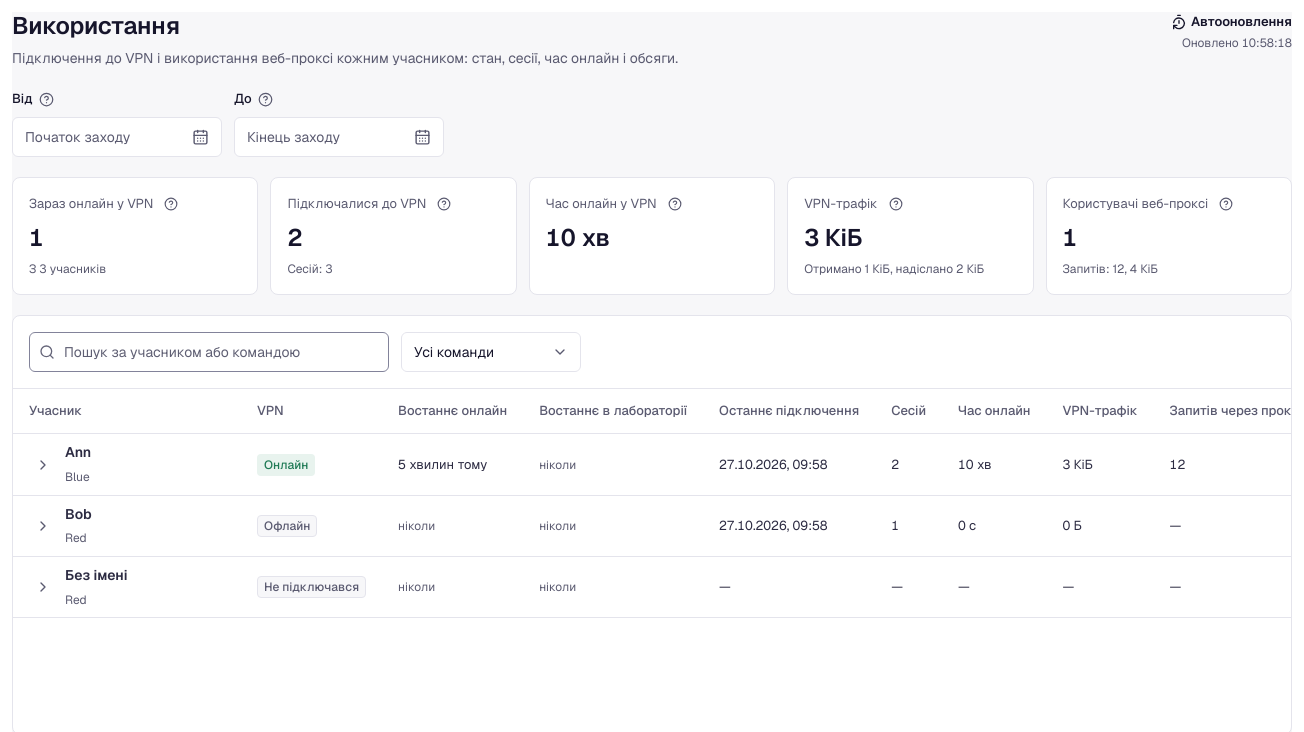
Scenario: Використання › filters by team and says so when nobody matches
Expected: the table is shown, top-left (13, 389), bottom-right (1291, 618)
Type "nobody" into the search field labelled "Пошук за учасником або командою".
click(209, 352); type("nobody")  # box top-left (29, 332), bottom-right (389, 372)
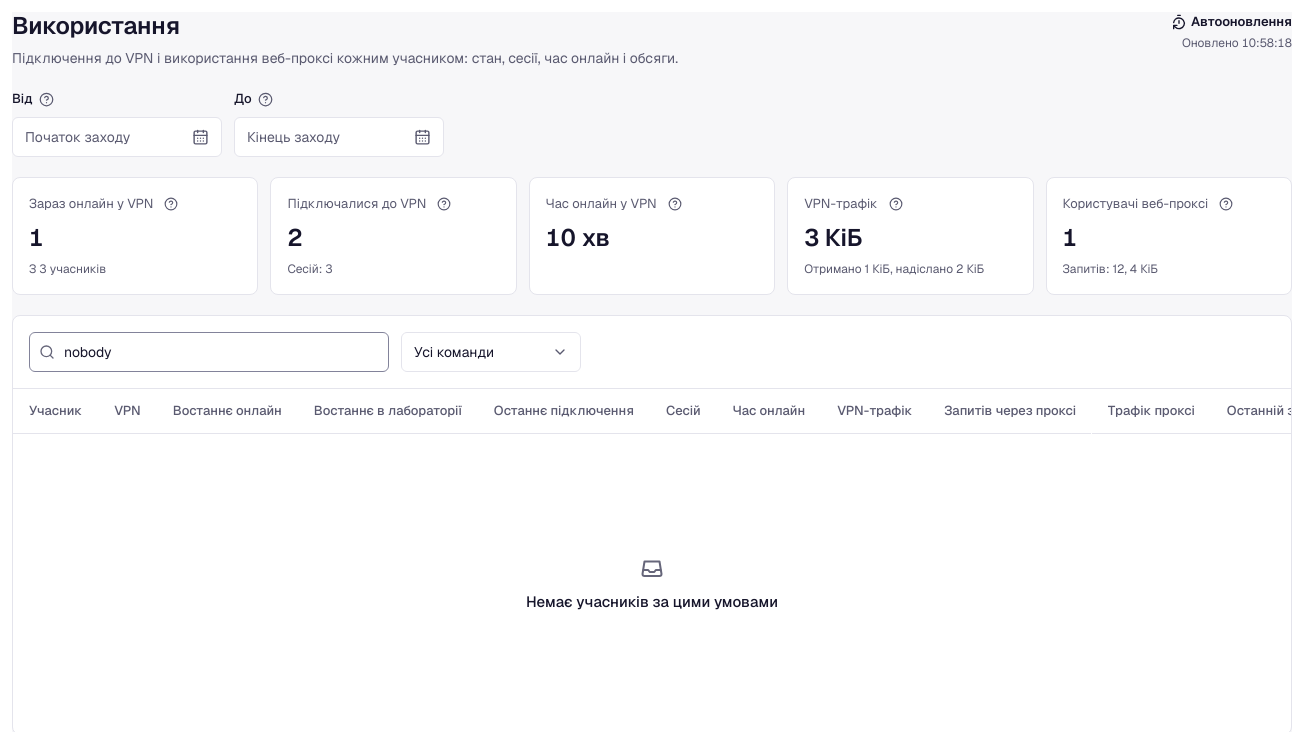
Expected: the text "Немає учасників за цими умовами" is shown, top-left (526, 592), bottom-right (778, 613)
